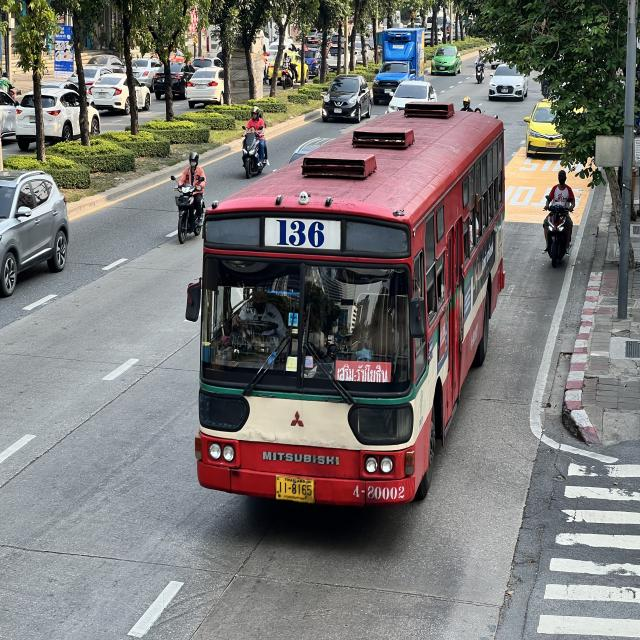BMTA-bus: (188, 103, 507, 511)
Bus-Line-Number: (267, 212, 338, 255)
Destination-Sign-Extra-Bus: (336, 359, 391, 386)
